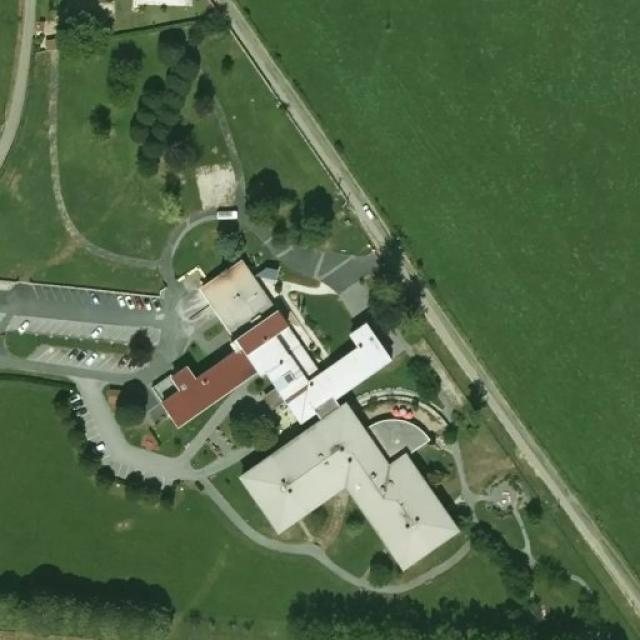maison: (147, 236, 391, 428), (242, 392, 457, 568)
